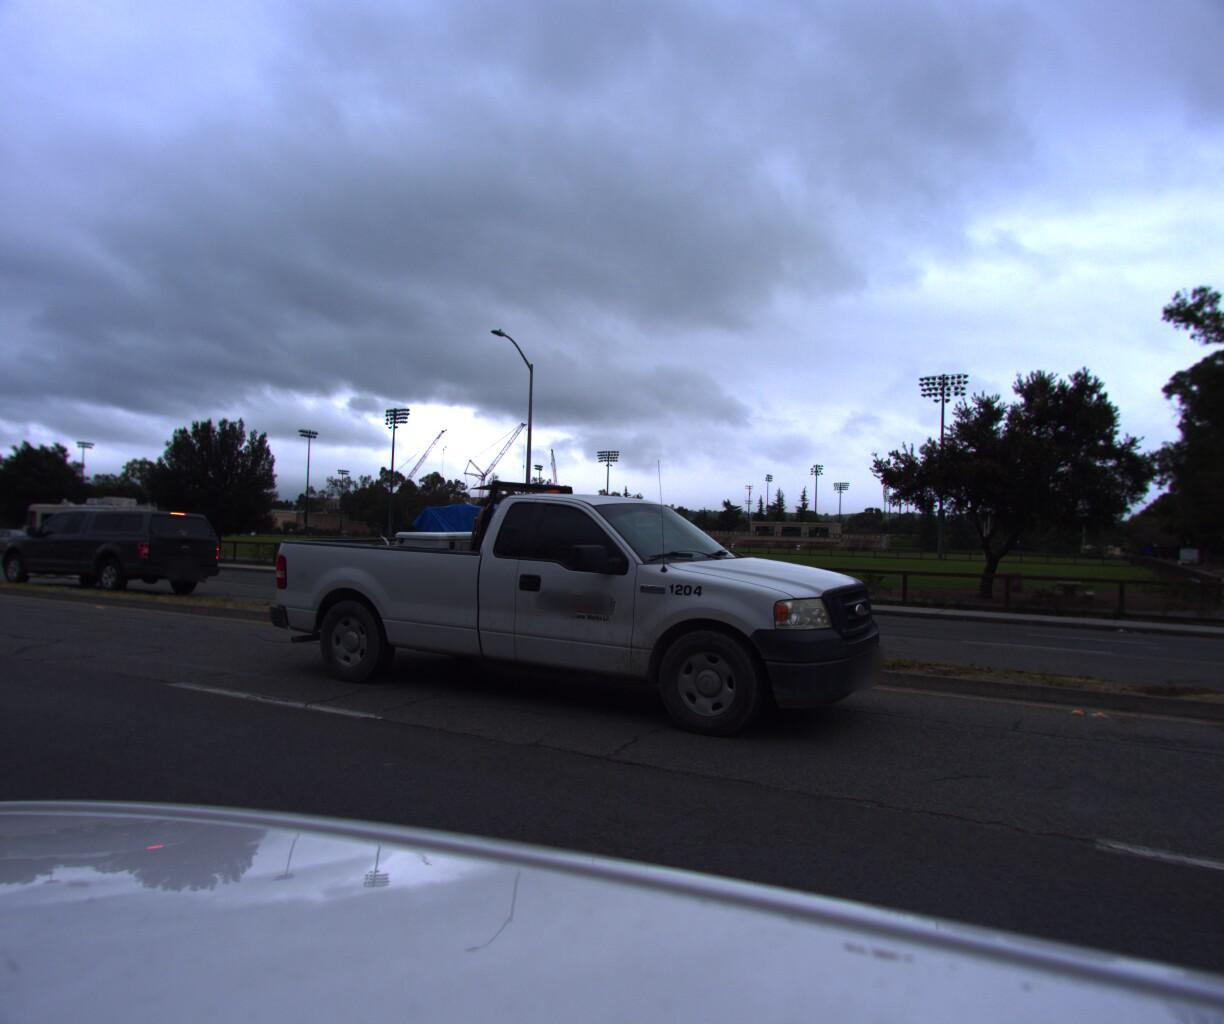car: (259, 445, 905, 773), (0, 510, 231, 606), (0, 527, 49, 558)
other_vehicle: (403, 501, 613, 602), (11, 496, 170, 564)
